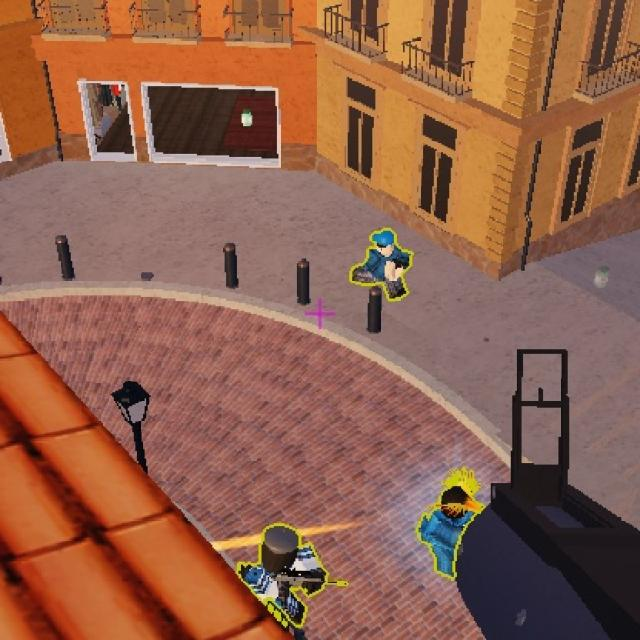player: (244, 528, 327, 608), (359, 221, 404, 298), (427, 477, 476, 544)
